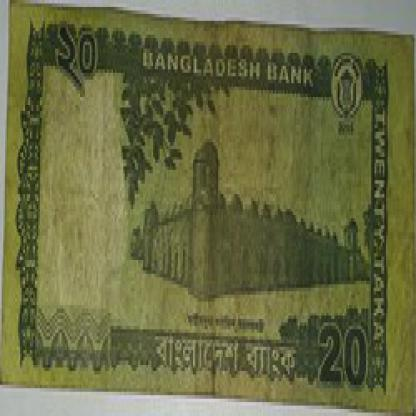Twenty: (48, 17, 105, 90), (313, 319, 371, 385)
